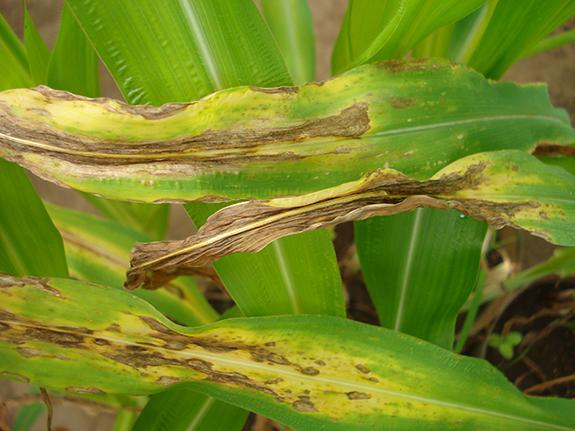Corn_Blight: (0, 56, 567, 295), (7, 306, 469, 425)
